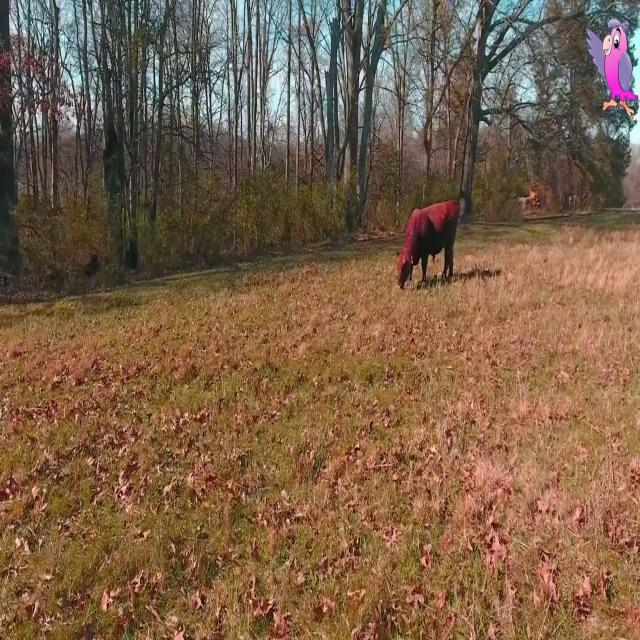cow: (398, 201, 459, 288)
